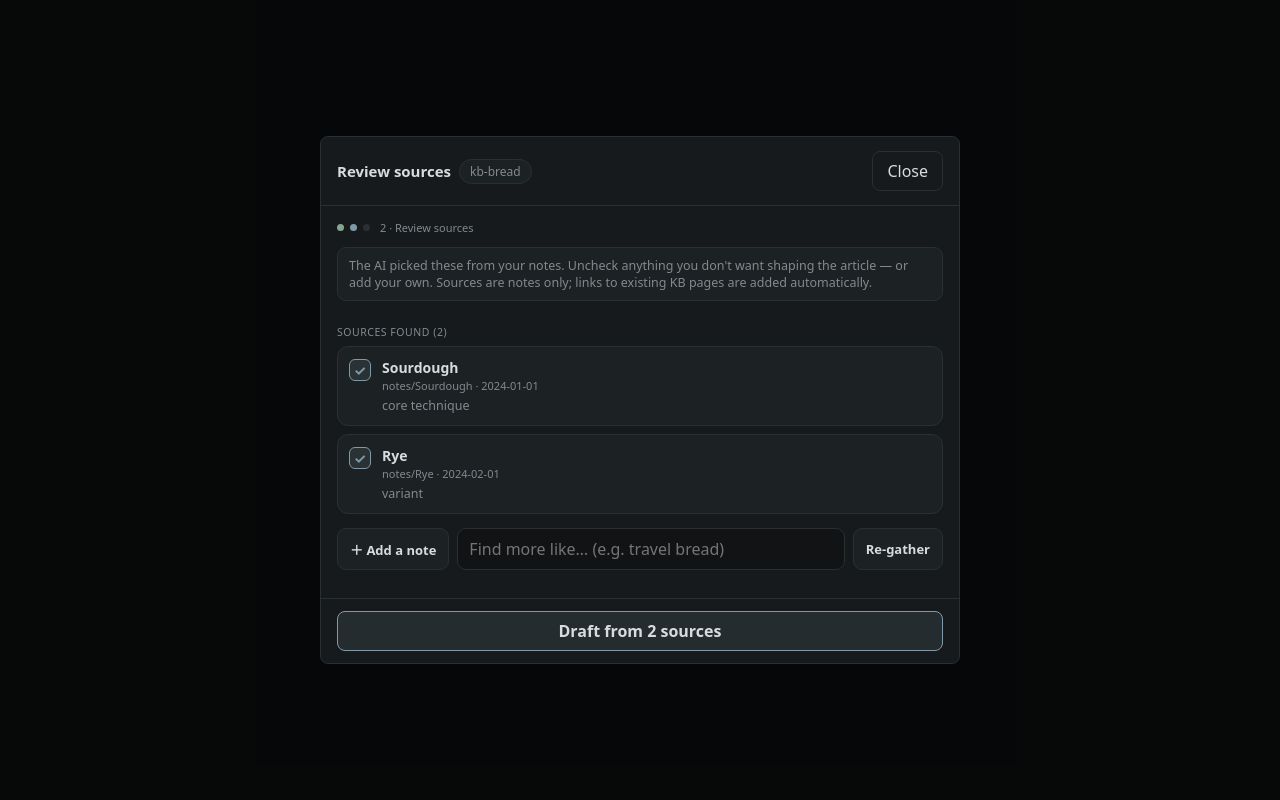
Test: RebuildPanel — draft (Stage 3) › starts a draft stream with the selected source ids and renders streamed content
The image size is (1280, 800).
Click the button "Draft from 2 sources" at (640, 631), box [337,611,943,651]
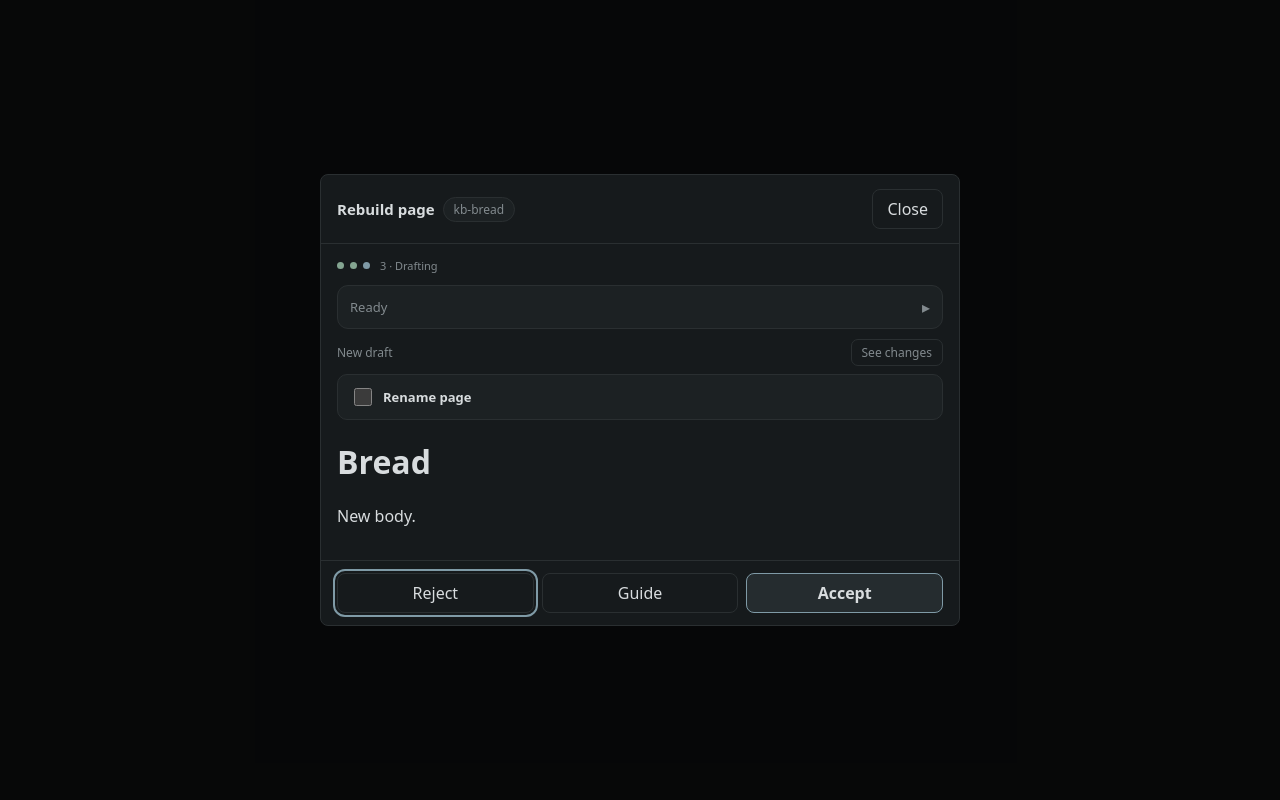
Result: the text "New body." is shown at [337,505,416,527]
Result: the button "Accept" is shown at [746,573,943,613]
Result: the button "Reject" is shown at [337,573,534,613]
